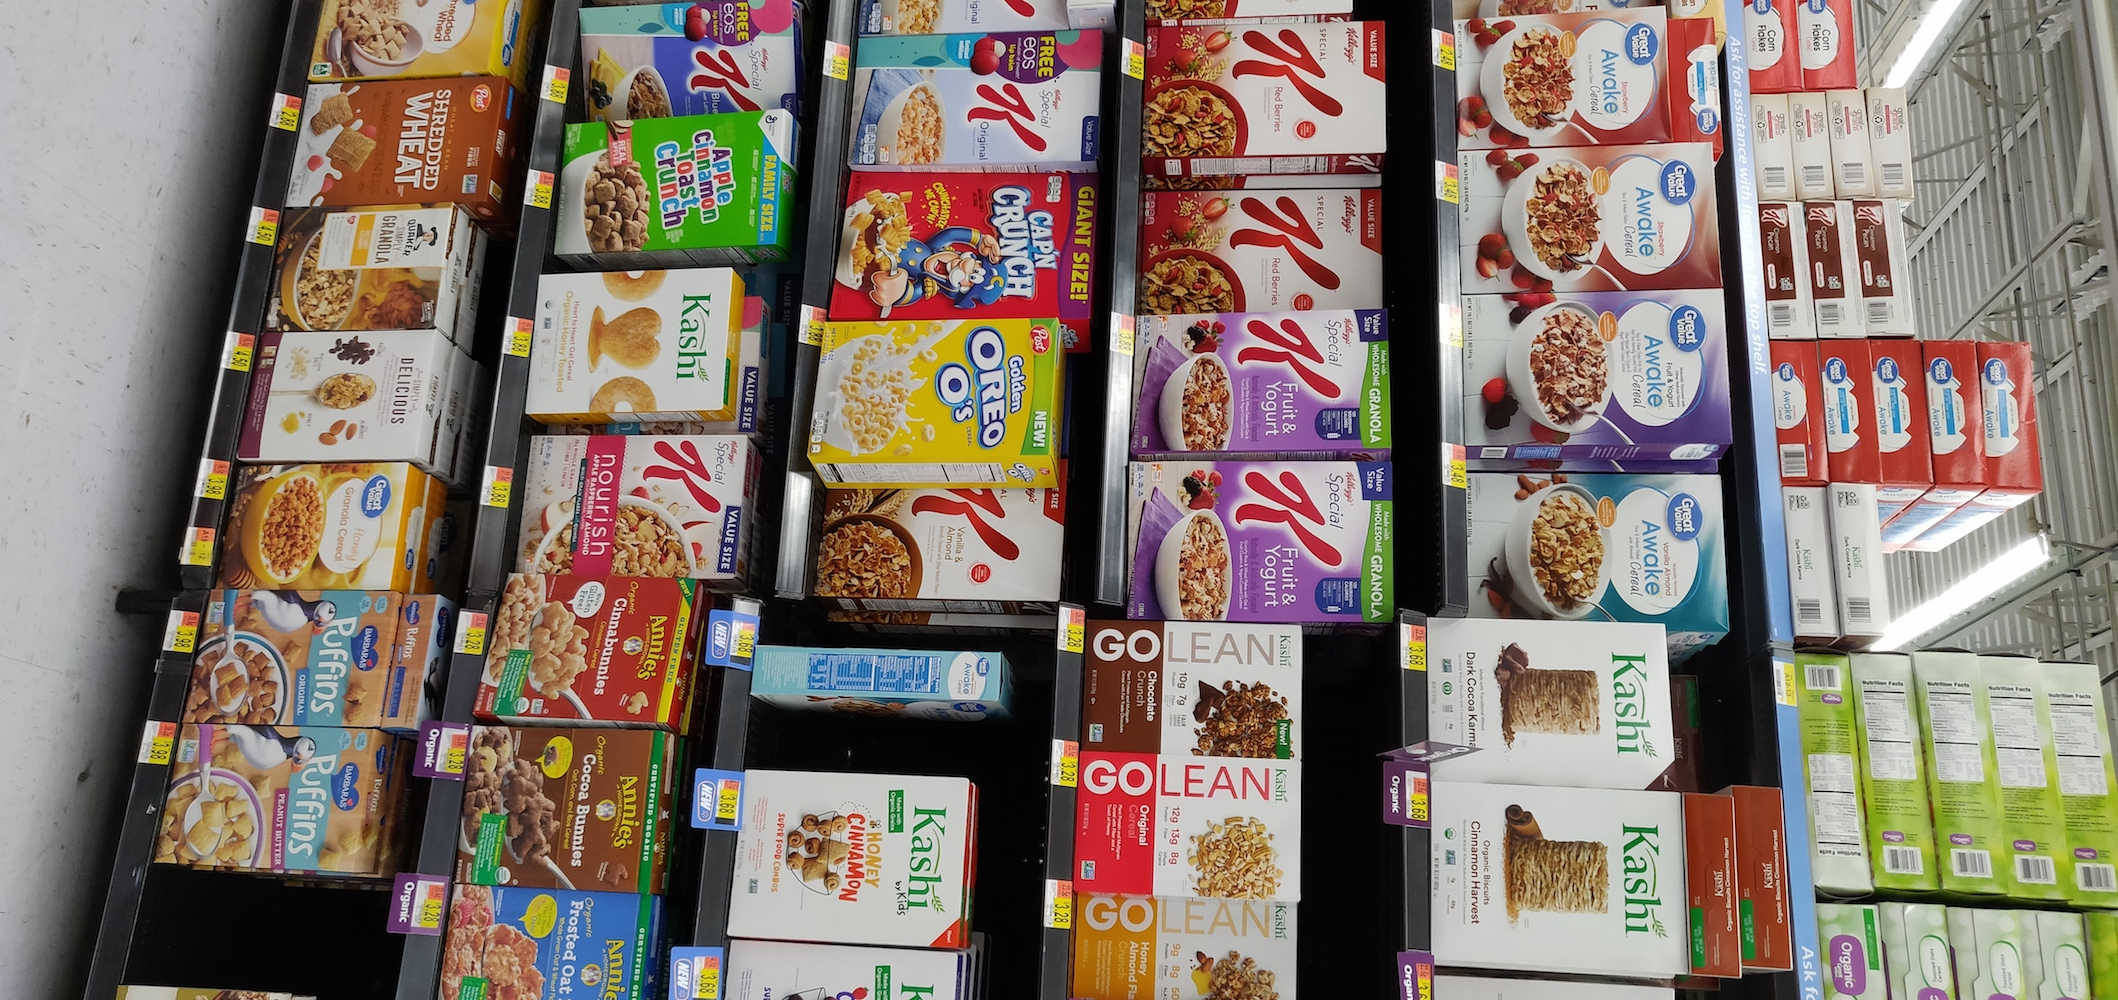Oreo Golden-568301011: (821, 315, 1052, 481)
